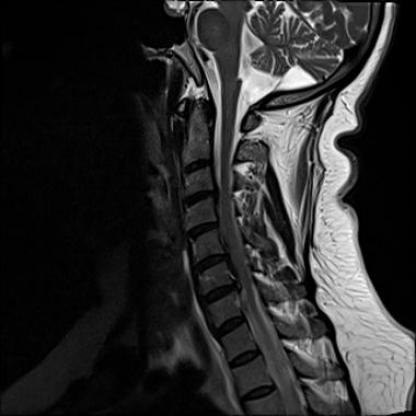Disc Protrusionrotation: (198, 284, 239, 302), (192, 255, 230, 271), (180, 191, 217, 205)
